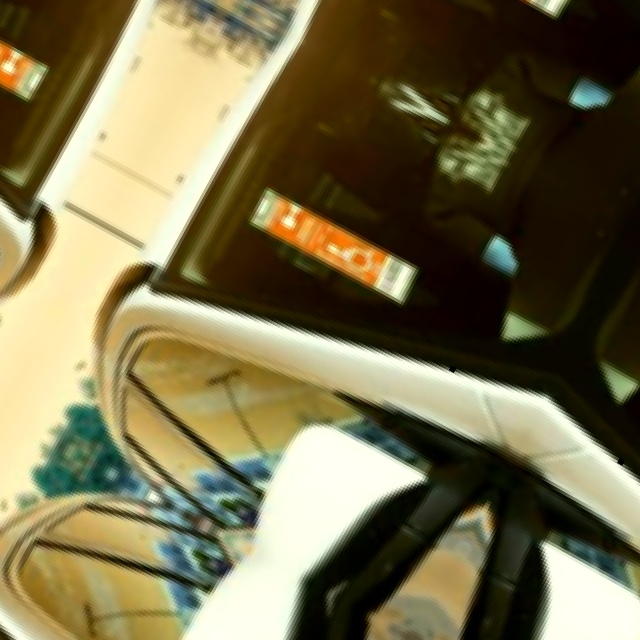ISA: (322, 232, 375, 275)
